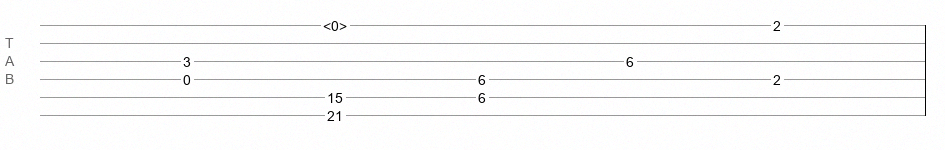0: (183, 72, 191, 82)
15: (327, 90, 343, 100)
2: (773, 72, 781, 82), (773, 18, 781, 28)
21: (327, 108, 343, 118)
3: (183, 54, 191, 64)
6: (478, 72, 486, 82), (478, 90, 486, 100), (626, 54, 634, 64)
harmonic: (323, 18, 347, 28)
